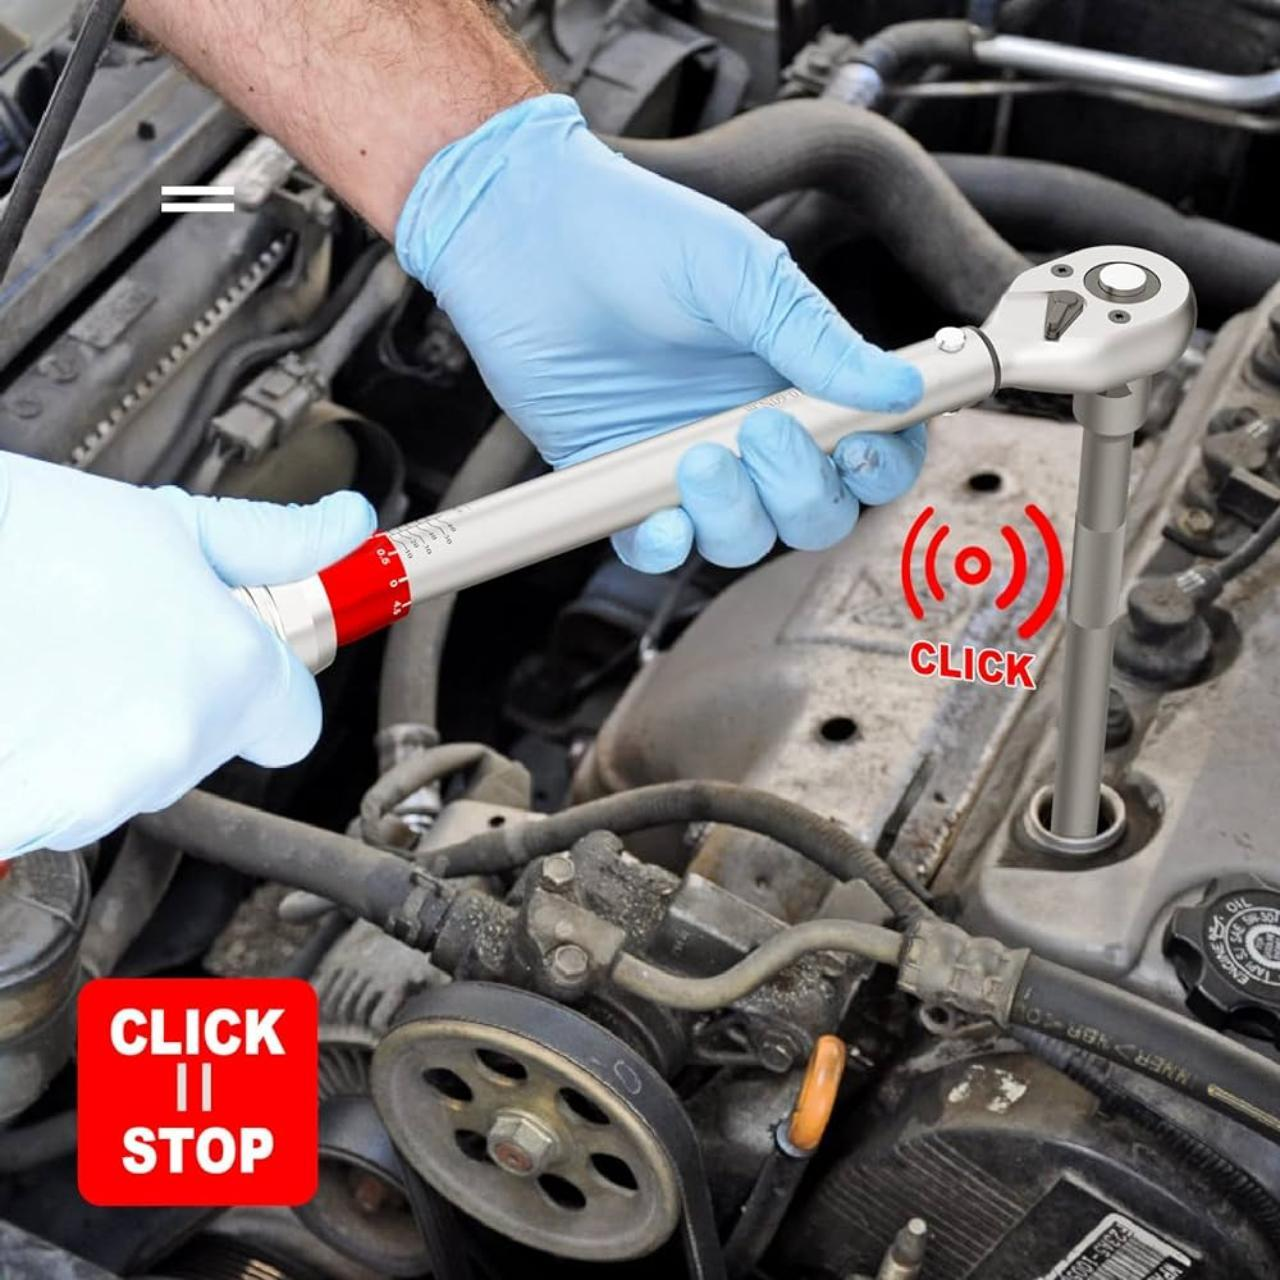Tool: (975, 225, 1194, 409)
